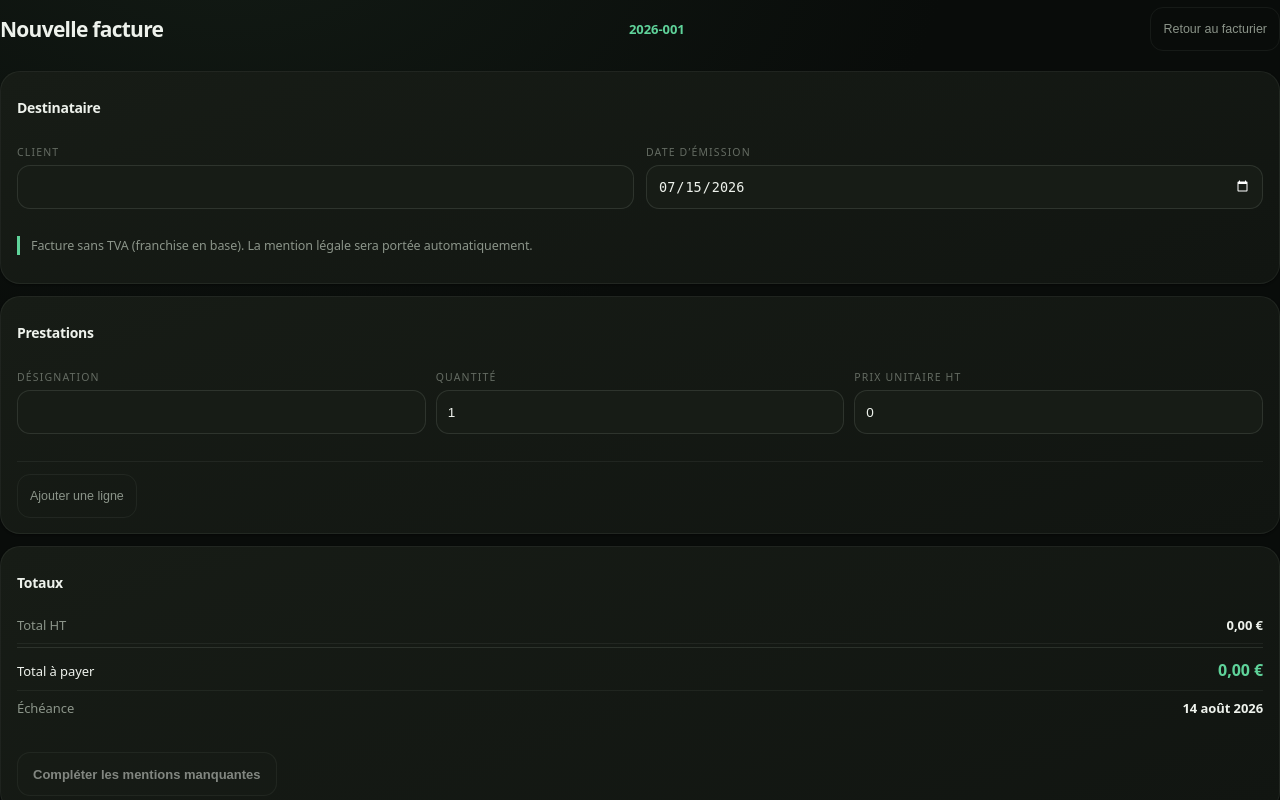
it: mentions obligatoires › signale un client absent du carnet
The width and height of the screenshot is (1280, 800).
Type "Inconnu" into the field labelled "Client" at [326, 187], box [17,165,634,209]
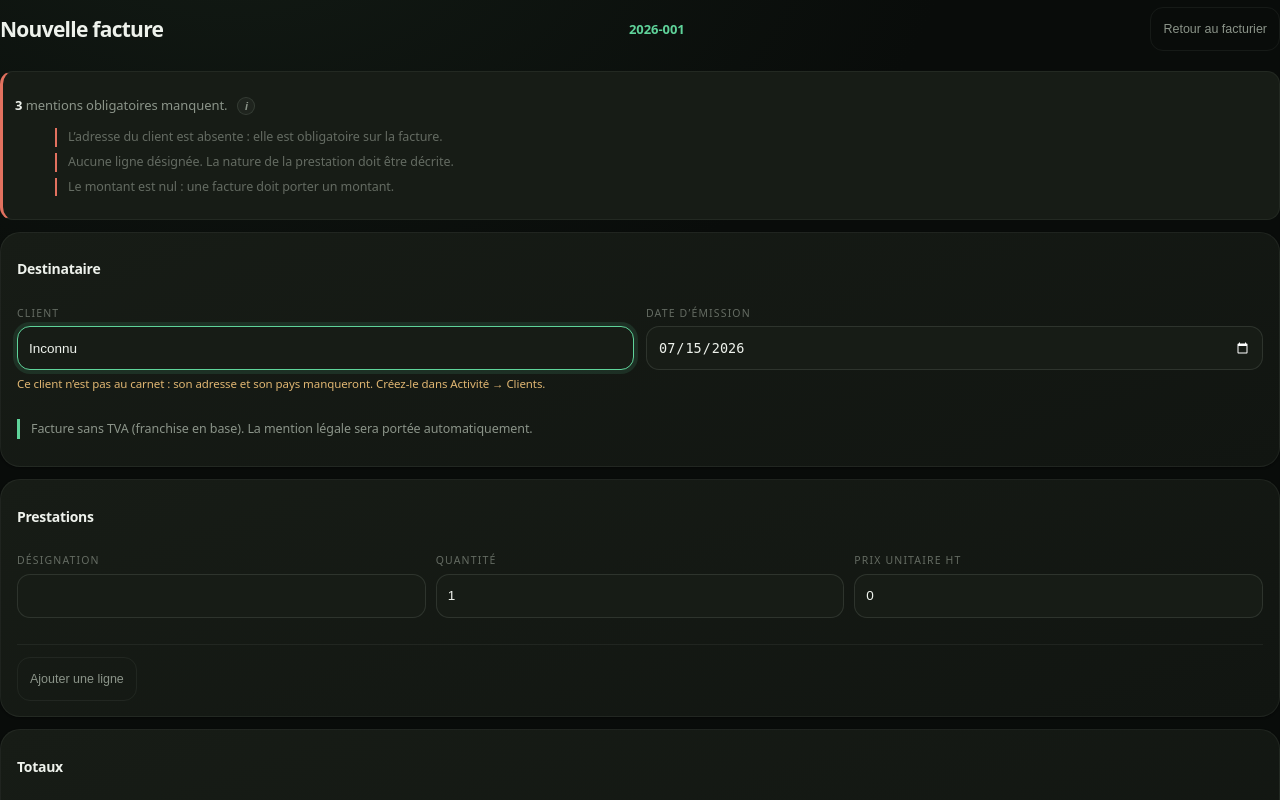
Result: the text "pas au carnet" is shown at [17,376,545,392]
